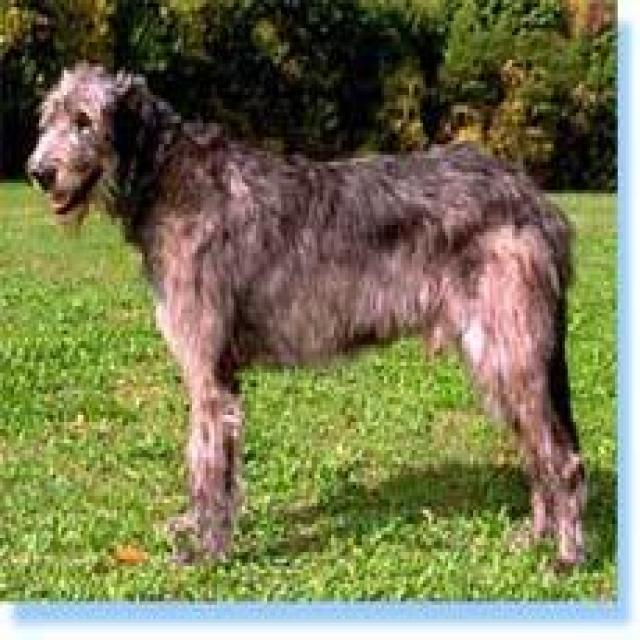irish_wolfhound: (31, 63, 590, 559)
